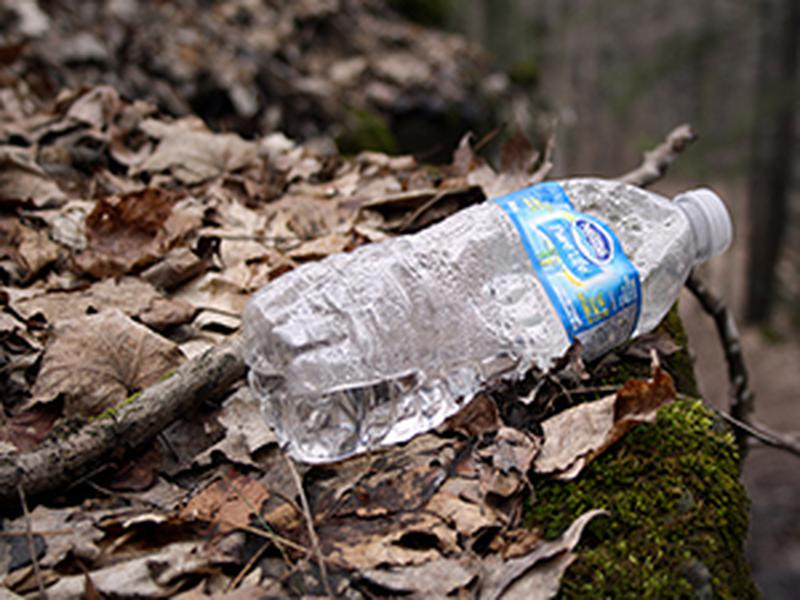bottle: (223, 174, 736, 464)
leaf: (20, 310, 191, 411), (128, 111, 267, 179), (531, 390, 623, 480), (172, 473, 283, 541)
